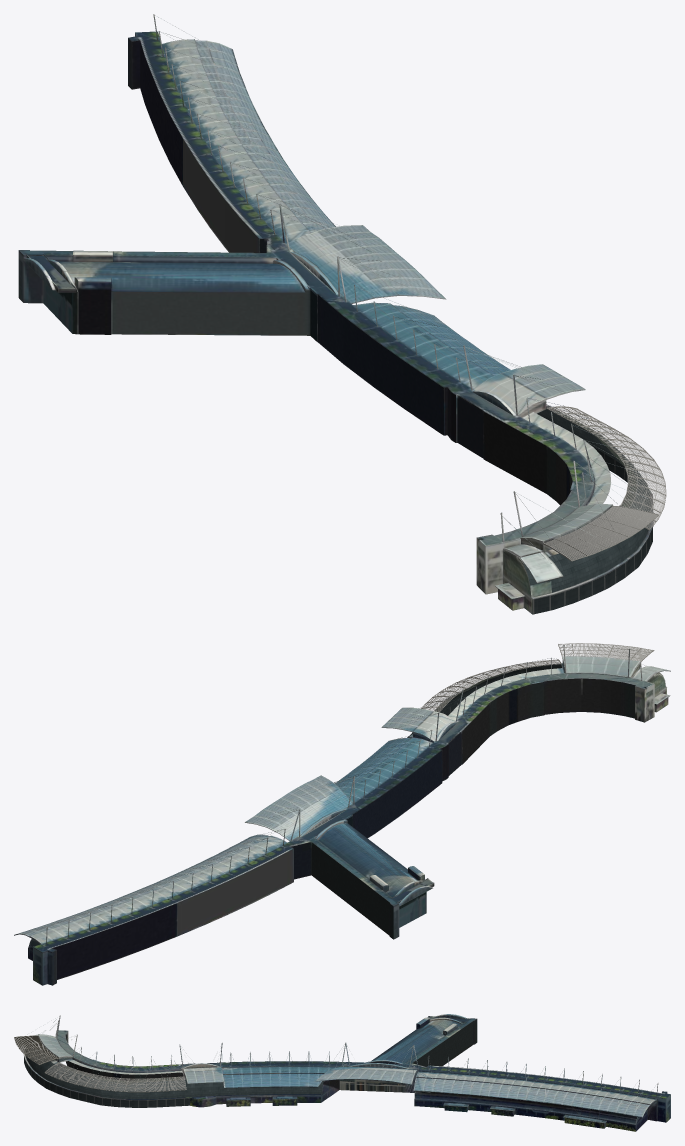
The picture shows the model from 3 angles, top to bottom: view 1: azimuth 30°, elevation 25°; view 2: azimuth 150°, elevation 25°; view 3: azimuth 270°, elevation 25°; orthographic projection. The views are drawn at different scales.
Visible parts, largest first — view 1: 1_0.glb; view 2: 1_0.glb; view 3: 1_0.glb.
Boxes of the visible parts, x1,y1,x2,y2 form: 1_0.glb: (18, 14, 666, 614); 1_0.glb: (14, 643, 670, 985); 1_0.glb: (14, 1014, 670, 1131).
Size of the model in its own units: 198 by 44.88 by 576.
4 materials, 3 textured.
